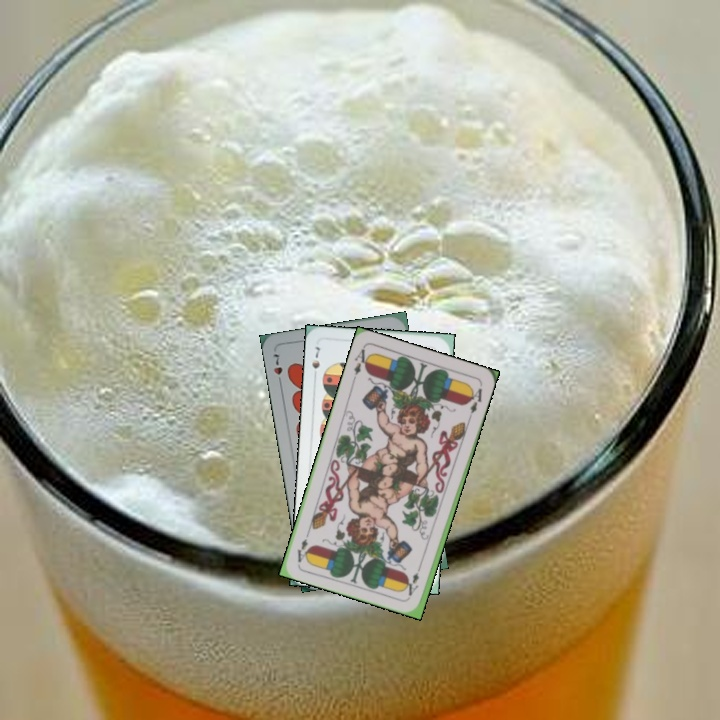EA: (349, 345, 373, 384), (404, 560, 424, 598)
H7: (269, 348, 285, 388)
S7: (308, 342, 323, 381)
